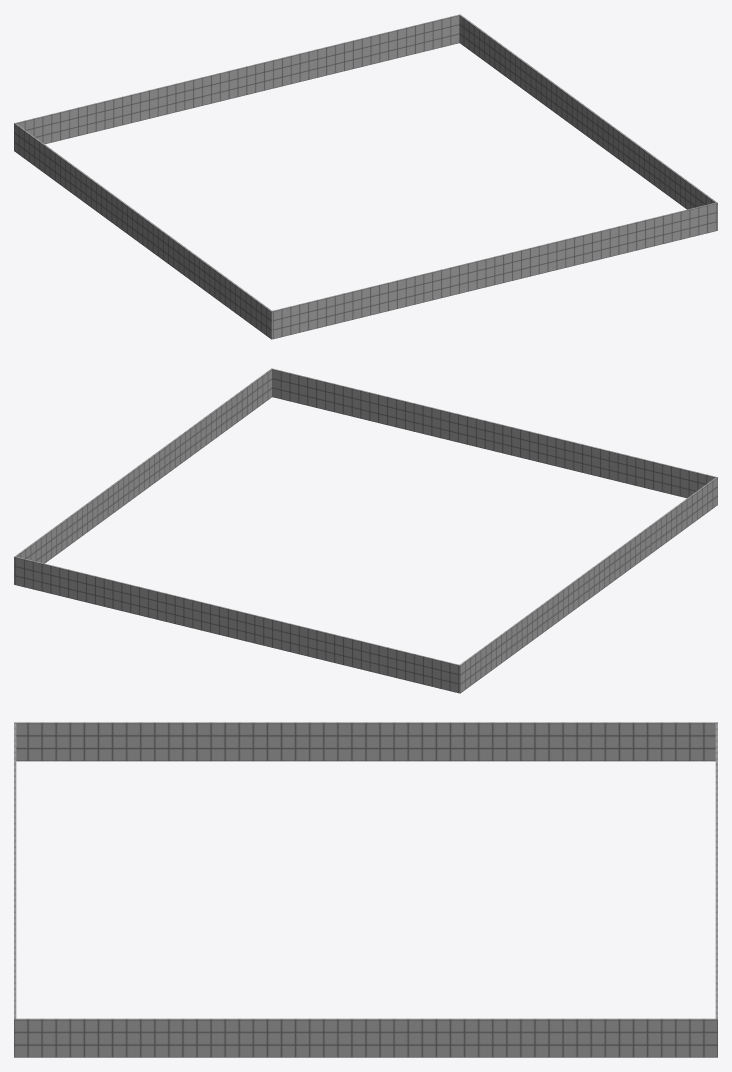
The model's file is FBDungeonWalls.fbx.
The picture shows the model from 3 angles, top to bottom: view 1: azimuth 30°, elevation 25°; view 2: azimuth 150°, elevation 25°; view 3: azimuth 270°, elevation 25°; orthographic projection. The views are drawn at different scales.
Visible parts, largest first — view 1: Cube_1, Cube, Cube_3, Cube_2; view 2: Cube, Cube_1, Cube_3, Cube_2; view 3: Cube_2, Cube_3, Cube, Cube_1.
Part boxes in pixels (<box>): Cube_1: <box>272,202,716,339</box>; Cube: <box>16,14,459,144</box>; Cube_3: <box>14,123,272,339</box>; Cube_2: <box>459,14,717,230</box>; Cube: <box>15,556,459,693</box>; Cube_1: <box>272,368,715,498</box>; Cube_3: <box>459,477,717,693</box>; Cube_2: <box>14,368,272,584</box>; Cube_2: <box>14,1018,717,1057</box>; Cube_3: <box>14,722,717,761</box>; Cube: <box>715,723,717,1018</box>; Cube_1: <box>14,723,16,1018</box>.
Bounding box in the file's own units: 15100 × 900 × 15100.
4 materials, 4 textured.
